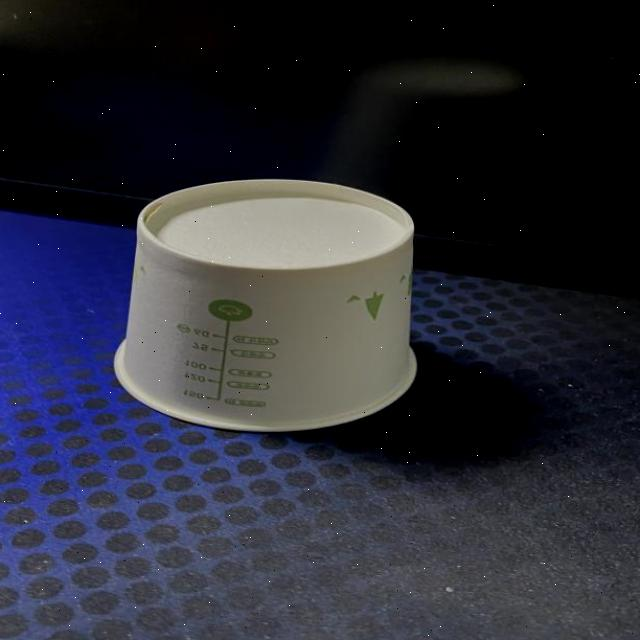trash: (110, 176, 422, 434)
